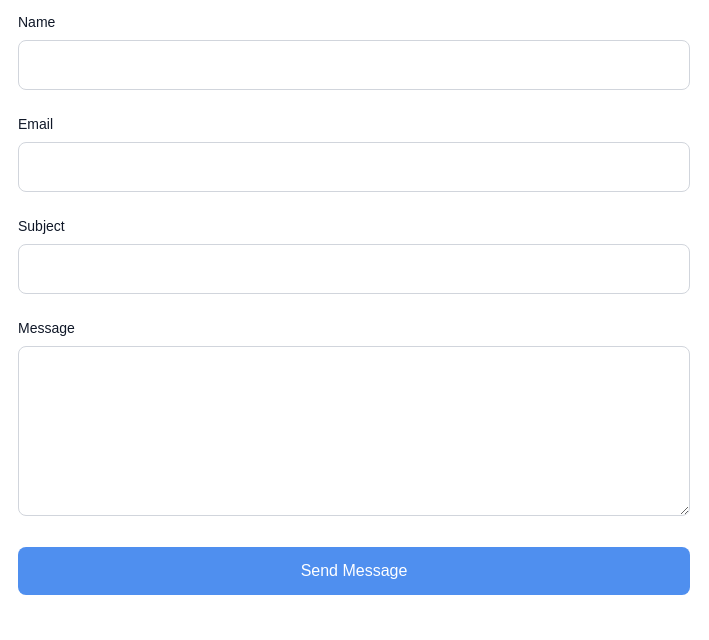
Test case: ContactForm Unit Tests › Form Validation › should display validation error for empty subject field
This screenshot has width=709, height=640.
Click the field labelled "Subject" at [354, 269], box [18, 244, 690, 294]
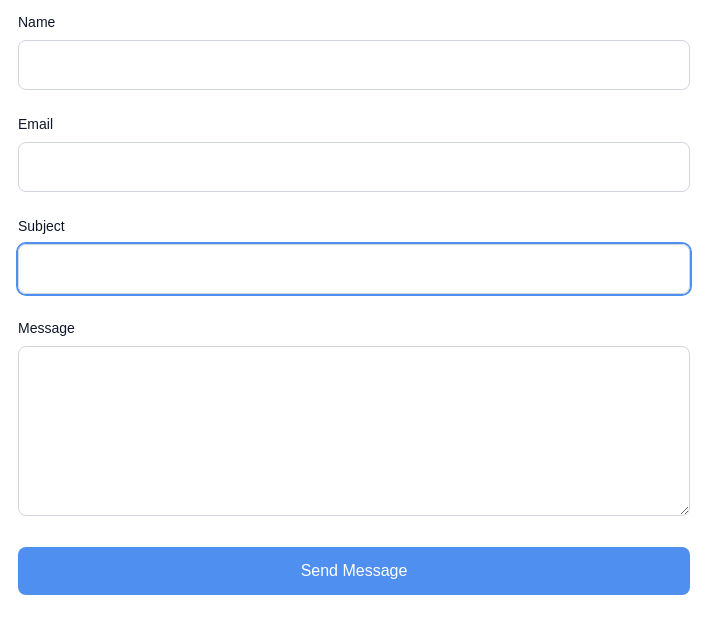
Press Tab
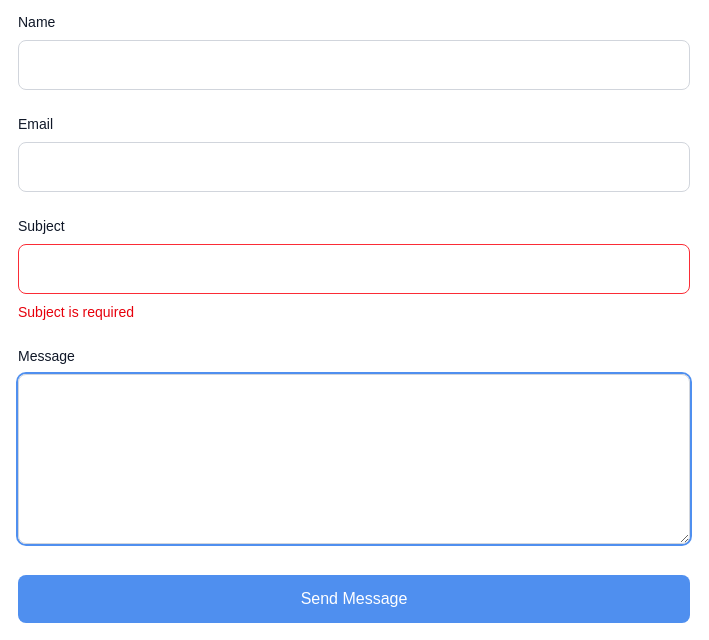
Now the text "Subject is required" is shown, box [18, 304, 134, 320]
